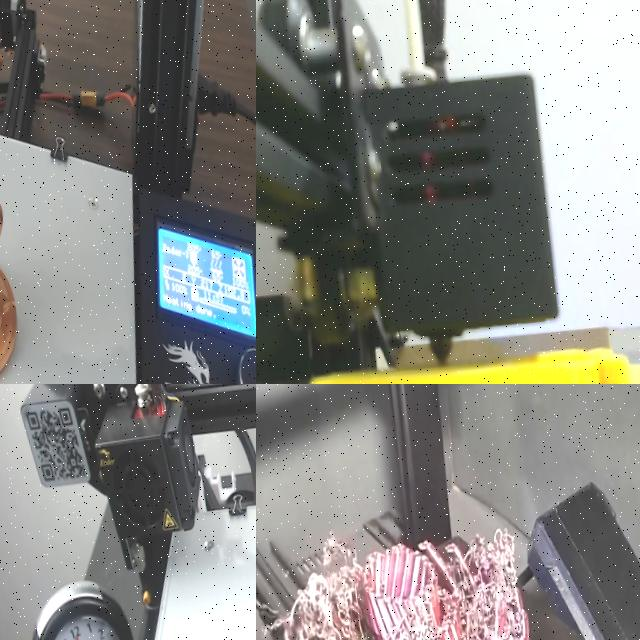spaghetti: (256, 512, 590, 640)
